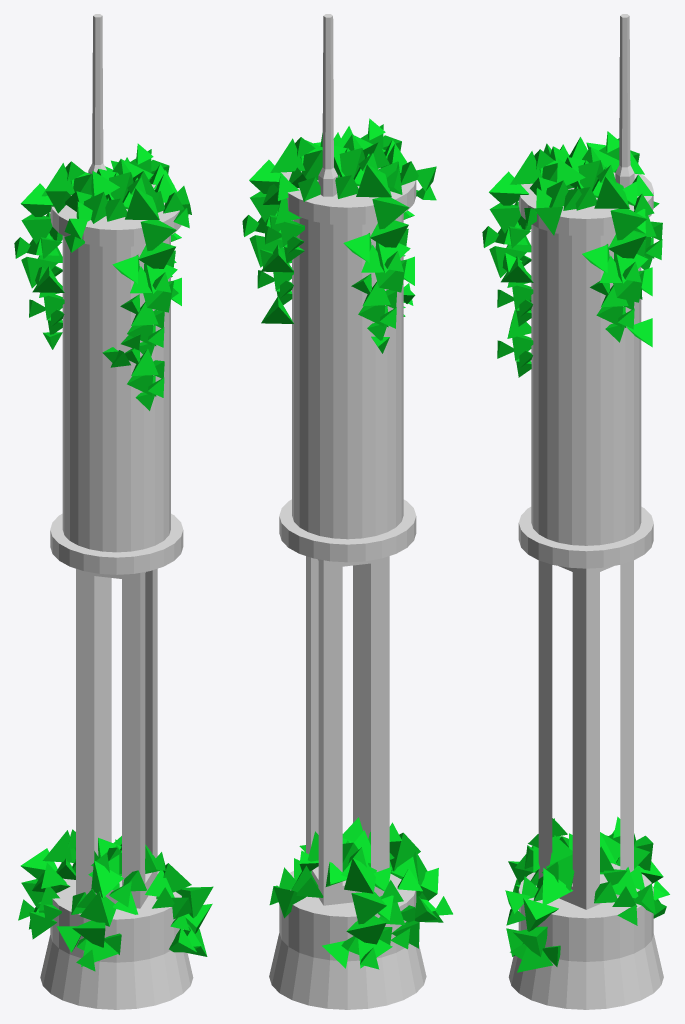
The model's file is Pisces Street Lamp.fbx.
The picture shows the model from 3 angles, left to right: view 1: azimuth 30°, elevation 25°; view 2: azimuth 150°, elevation 25°; view 3: azimuth 270°, elevation 25°; orthographic projection. The views are drawn at different scales.
Parts seen in each view (by area): view 1: Street Lamp, Leaves; view 2: Street Lamp, Leaves; view 3: Street Lamp, Leaves.
Boxes of the visible parts, x1,y1,x2,y2 form: Street Lamp: (40, 14, 193, 1009); Leaves: (14, 143, 213, 971); Street Lamp: (269, 14, 426, 1009); Leaves: (242, 118, 452, 969); Street Lamp: (508, 14, 663, 1009); Leaves: (482, 131, 669, 972).
Bounding box in the file's own units: 98.32 × 550 × 97.55.
